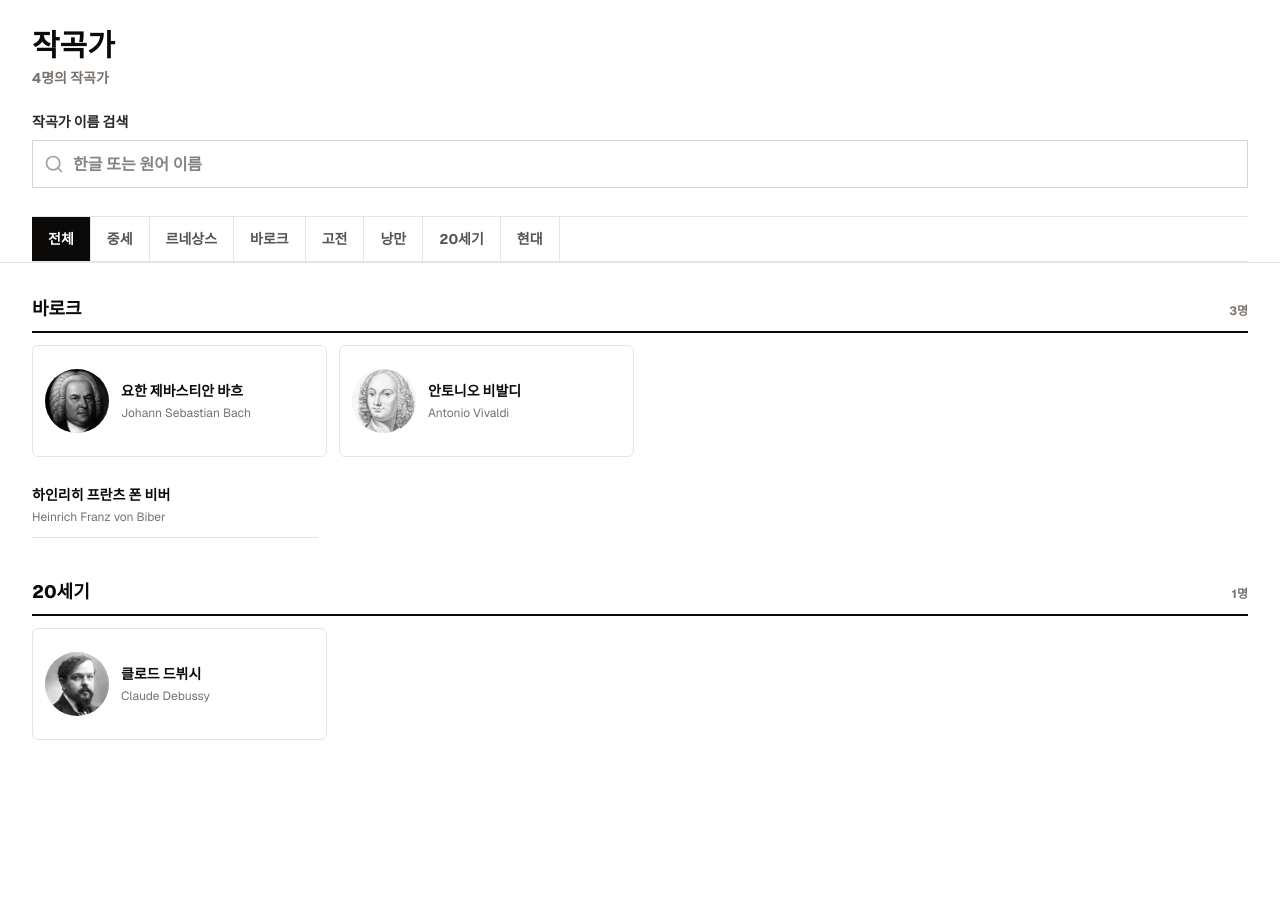
ComposerDirectory › hides portrait links during search to avoid duplicate results
In the search field labelled "작곡가 이름 검색": (640, 164) x1=32 y1=140 x2=1248 y2=188, type "바흐"
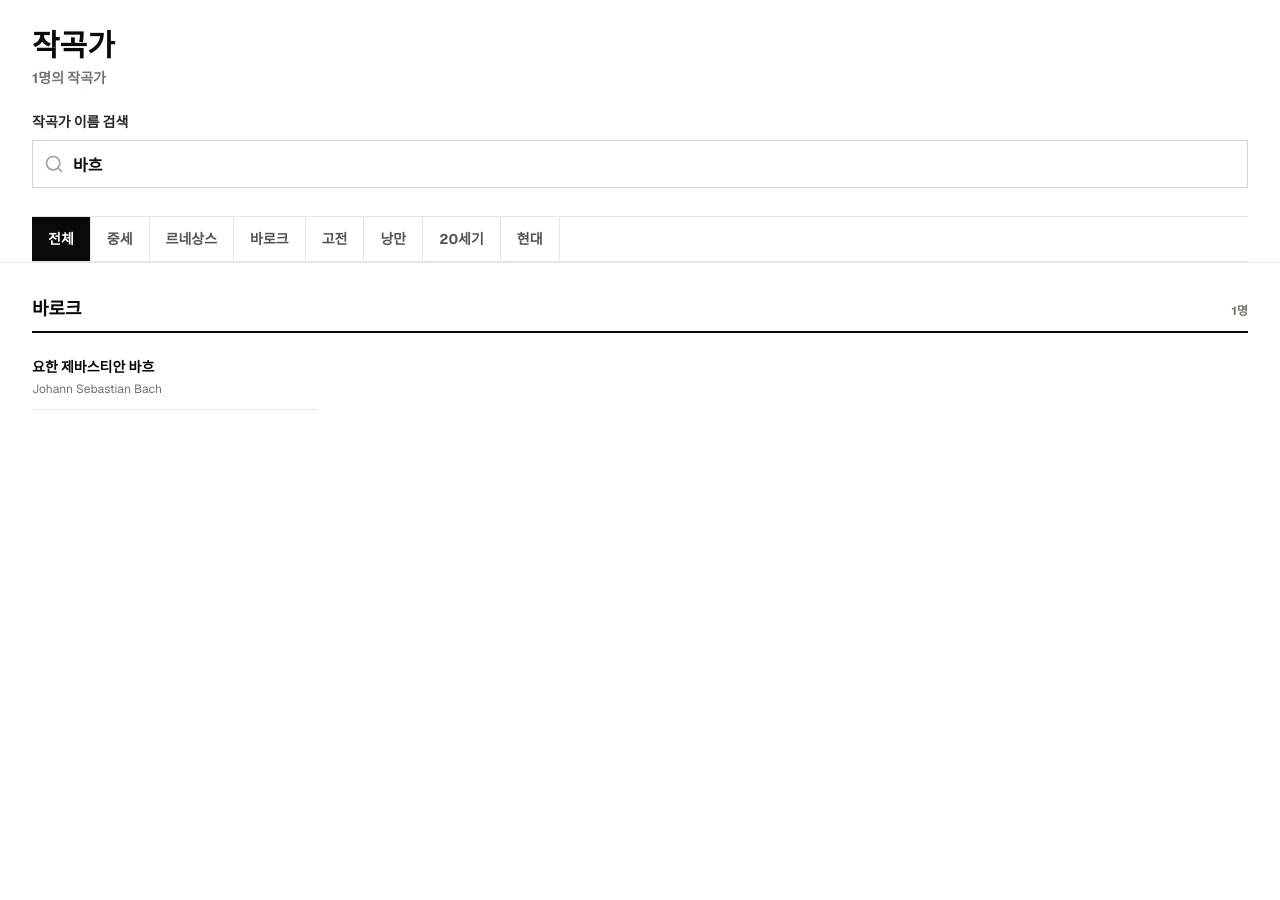
Expected: the number of links "요한 제바스티안 바흐 Johann Sebastian Bach" is 1, x1=32 y1=358 x2=162 y2=397
